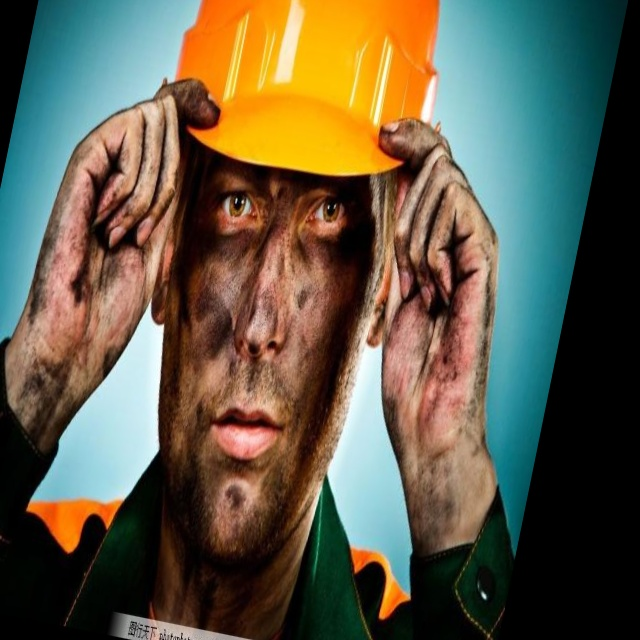Con_Casco: (131, 0, 475, 325)
